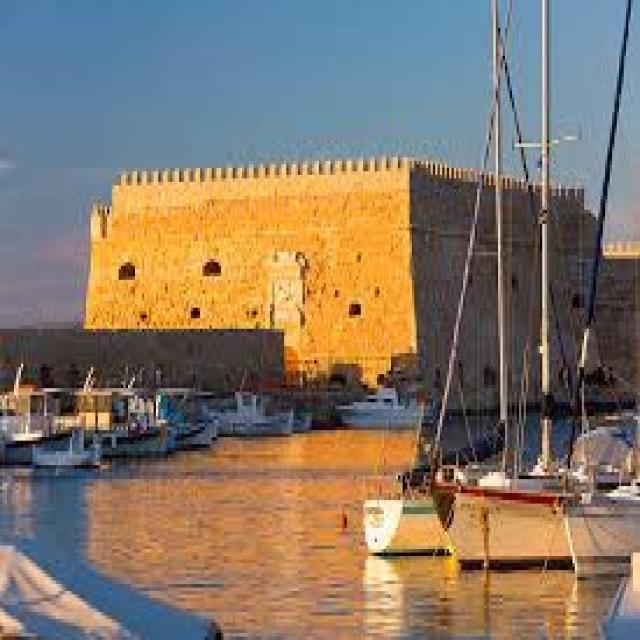Kules: (78, 159, 640, 409)
